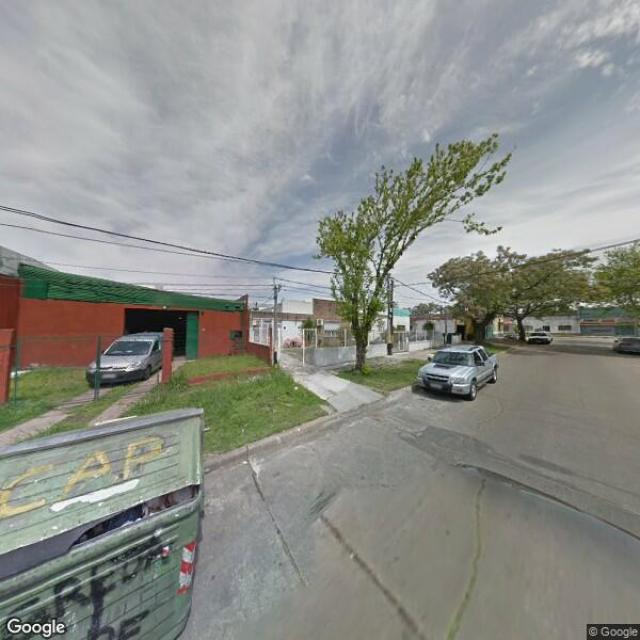garbage container: (1, 398, 218, 640)
